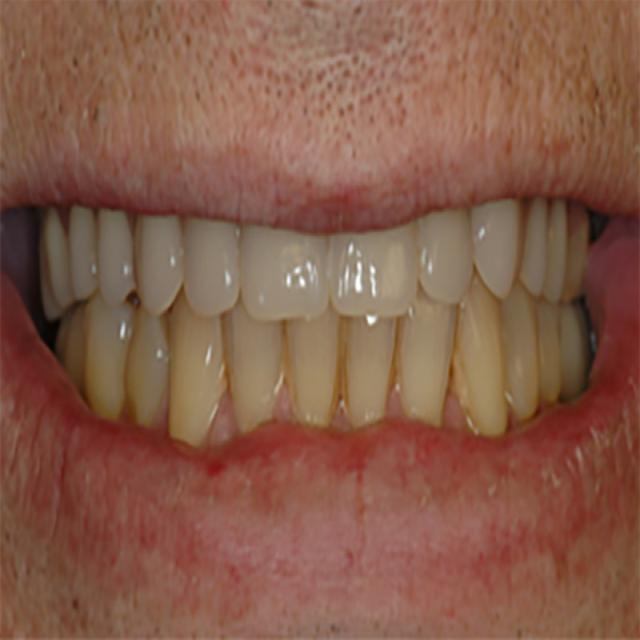tooth: (169, 300, 227, 457), (241, 219, 333, 311), (327, 224, 418, 312), (277, 310, 341, 434), (393, 300, 453, 427), (457, 310, 509, 440), (345, 308, 394, 432), (80, 300, 130, 421), (229, 310, 274, 437), (502, 294, 539, 426), (471, 198, 520, 297), (186, 225, 243, 310), (417, 209, 474, 294), (134, 224, 187, 306), (127, 316, 164, 426), (558, 297, 594, 398), (96, 208, 135, 300), (45, 203, 77, 300), (536, 310, 566, 411), (70, 199, 99, 300), (53, 311, 85, 387), (522, 200, 545, 296), (34, 242, 57, 326), (549, 208, 567, 296), (566, 206, 584, 294)
